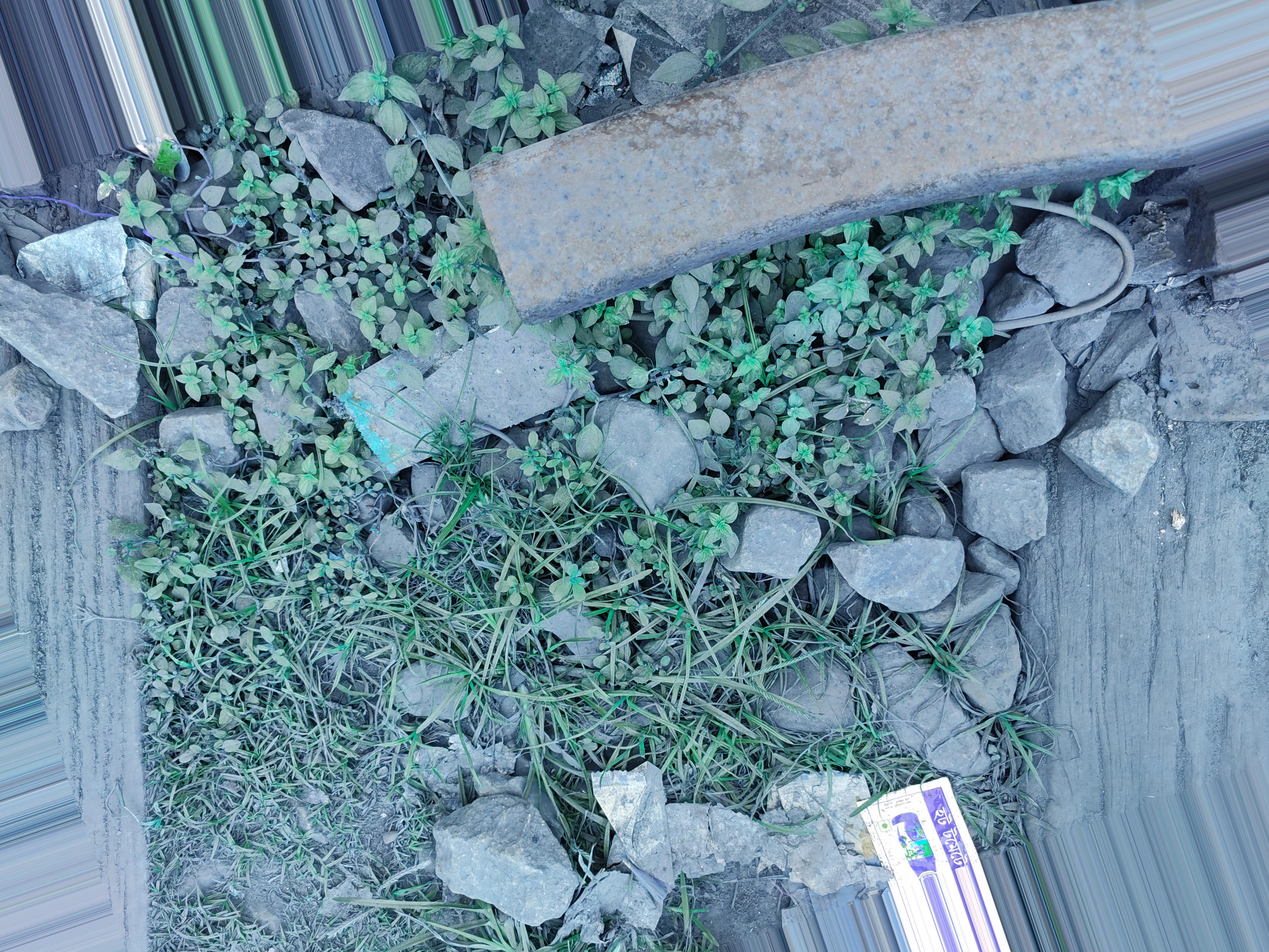tracks_fault: (9, 123, 650, 356)
